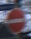No entry: (6, 6, 26, 34)
